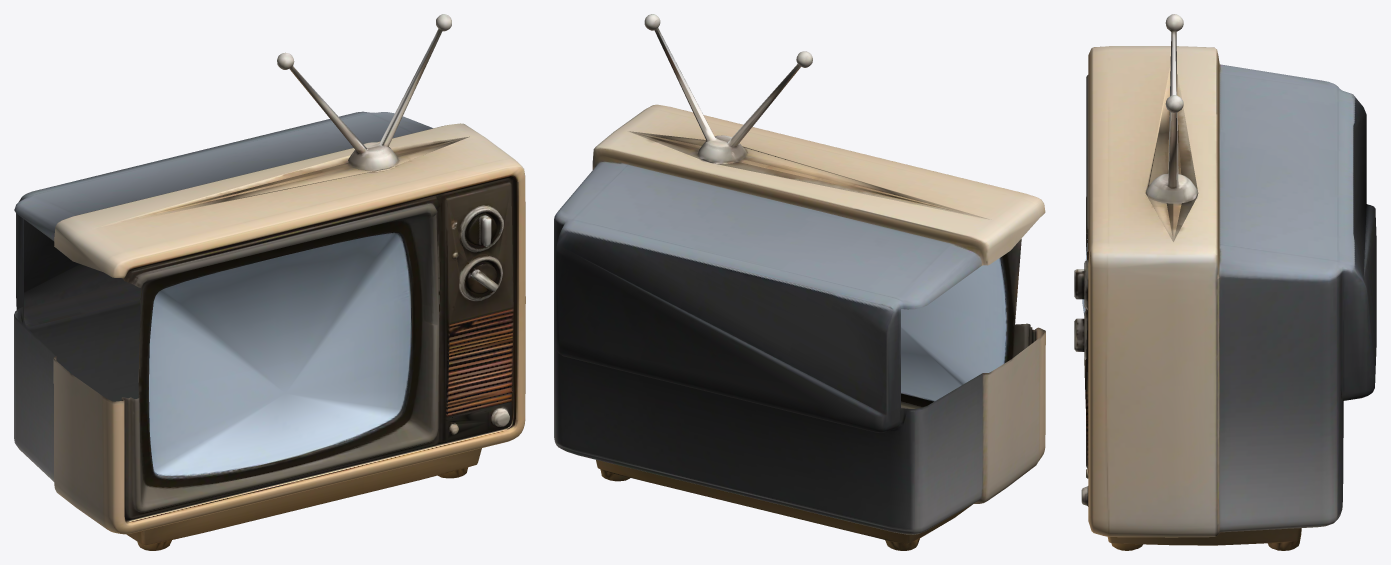
File: Electronics__crt_television_realistic_style_568f1725_v1.cluster.glb
The picture shows the model from 3 angles, left to right: view 1: azimuth 30°, elevation 25°; view 2: azimuth 150°, elevation 25°; view 3: azimuth 270°, elevation 25°; orthographic projection. The views are drawn at different scales.
Visible parts, largest first — view 1: mesh_input; view 2: mesh_input; view 3: mesh_input.
Boxes of the visible parts, left/top/right/bottom form: mesh_input: left=14, top=14, right=525, bottom=550; mesh_input: left=554, top=14, right=1045, bottom=550; mesh_input: left=1074, top=14, right=1376, bottom=550.
Size of the model in its own units: 1.9 by 1.9 by 1.14.
1 material, 1 textured.
